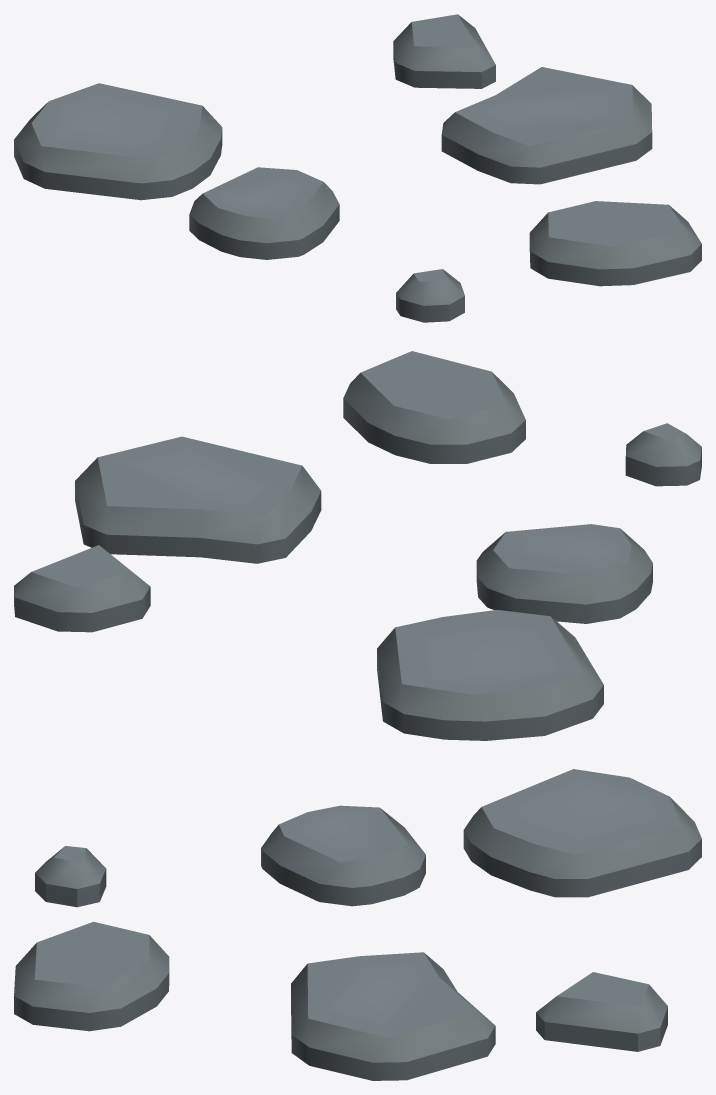
File: path-d.glb
3 views of the same model, one above another, from view 1: azimuth 30°, elevation 25°; view 2: azimuth 150°, elevation 25°; view 3: azimuth 270°, elevation 25° (orthographic). The views are drawn at different scales.
Parts seen in each view (by area): view 1: path_D; view 2: path_D; view 3: path_D.
Part boxes in pixels (<box>): path_D: <box>14,14,701,322</box>; path_D: <box>14,351,701,740</box>; path_D: <box>14,769,701,1080</box>.
Size of the model in its own units: 1.66 by 0.1 by 1.71.
Materials: 1 (1 with a texture image).
